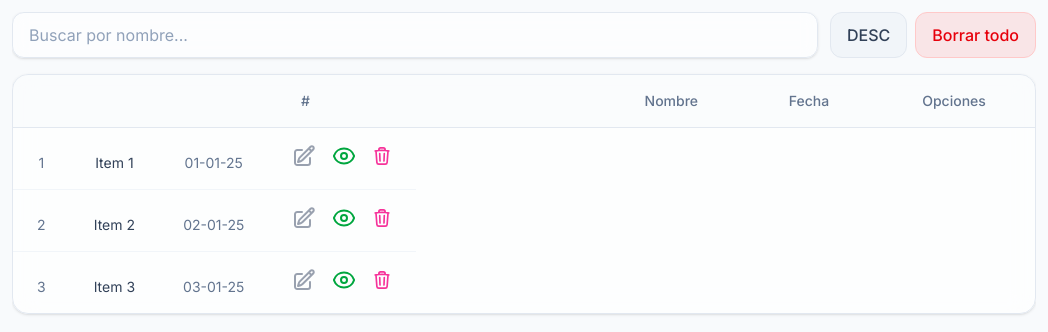
Scenario: BaseTable.vue › shows "Búsqueda sin resultado" when search yields no results
The width and height of the screenshot is (1048, 332).
Type "nonexistent" into the field with placeholder "Buscar por nombre..." at (415, 35), box [12,12,818,58]
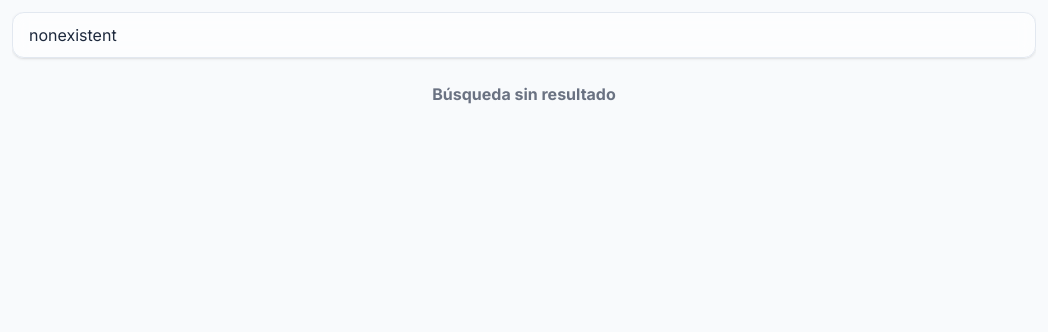
Now the text "Búsqueda sin resultado" is shown, box [432,84,616,104]
